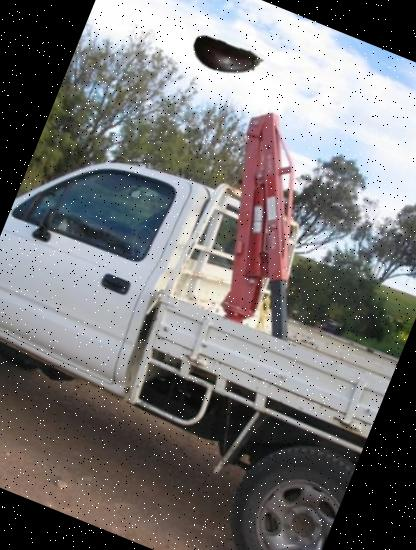Eggplant: (178, 10, 274, 107)
